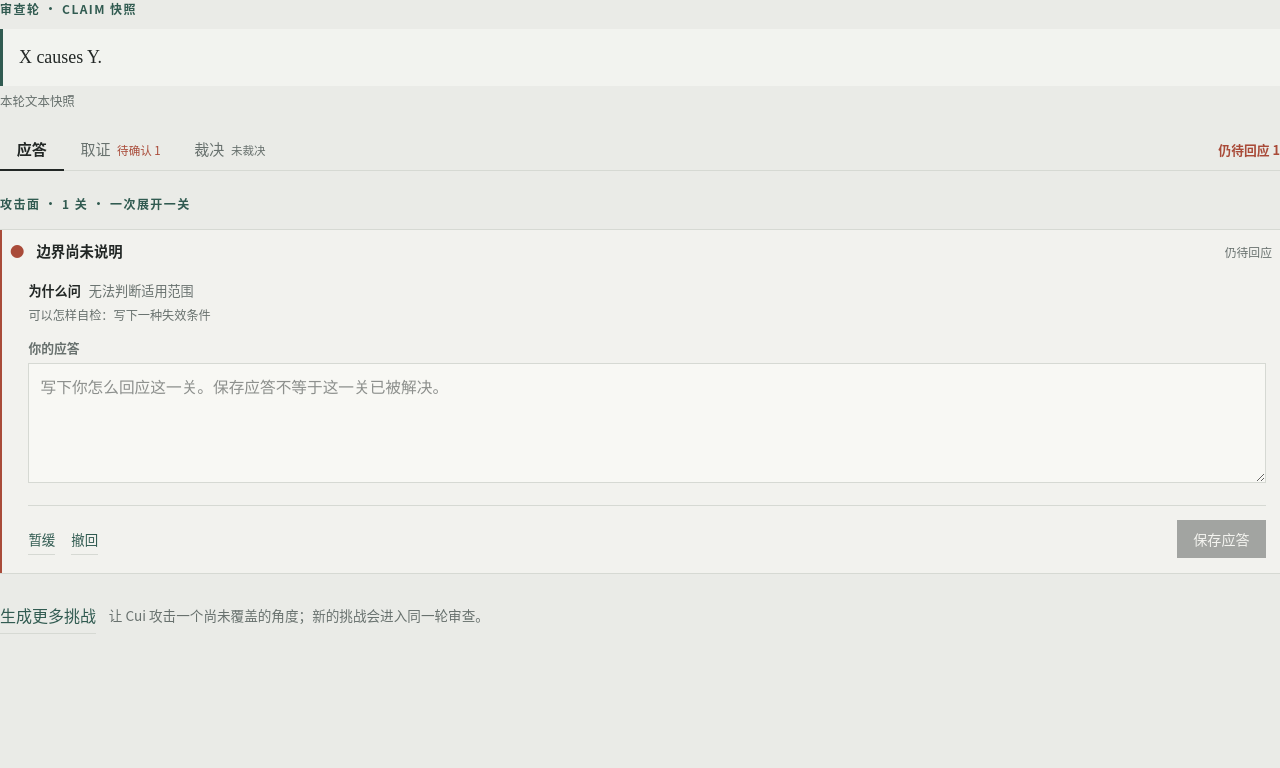
Test case: ReviewRoundDesk evidence surface › withdraws a candidate
This screenshot has width=1280, height=768.
What coordinates should you click on to do the following:
click the tab "取证 待确认 1"
I would click on:
 (121, 150)
Its box is [64,128,178,171].
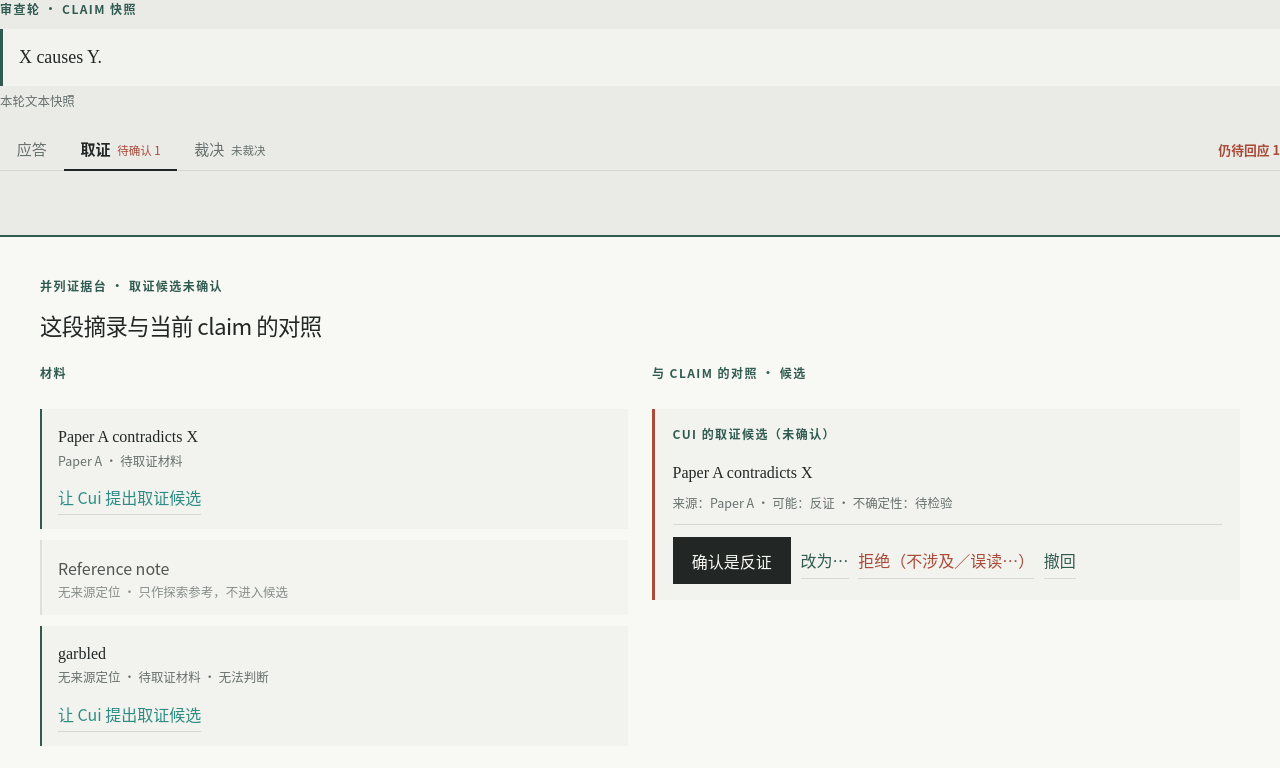
Now the 1st text "Paper A contradicts X" is shown, box [58,428,198,445]
What coordinates should you click on to do the following:
click the button "撤回"
I would click on:
 (1060, 561)
Its box is [1044,542,1076,579].
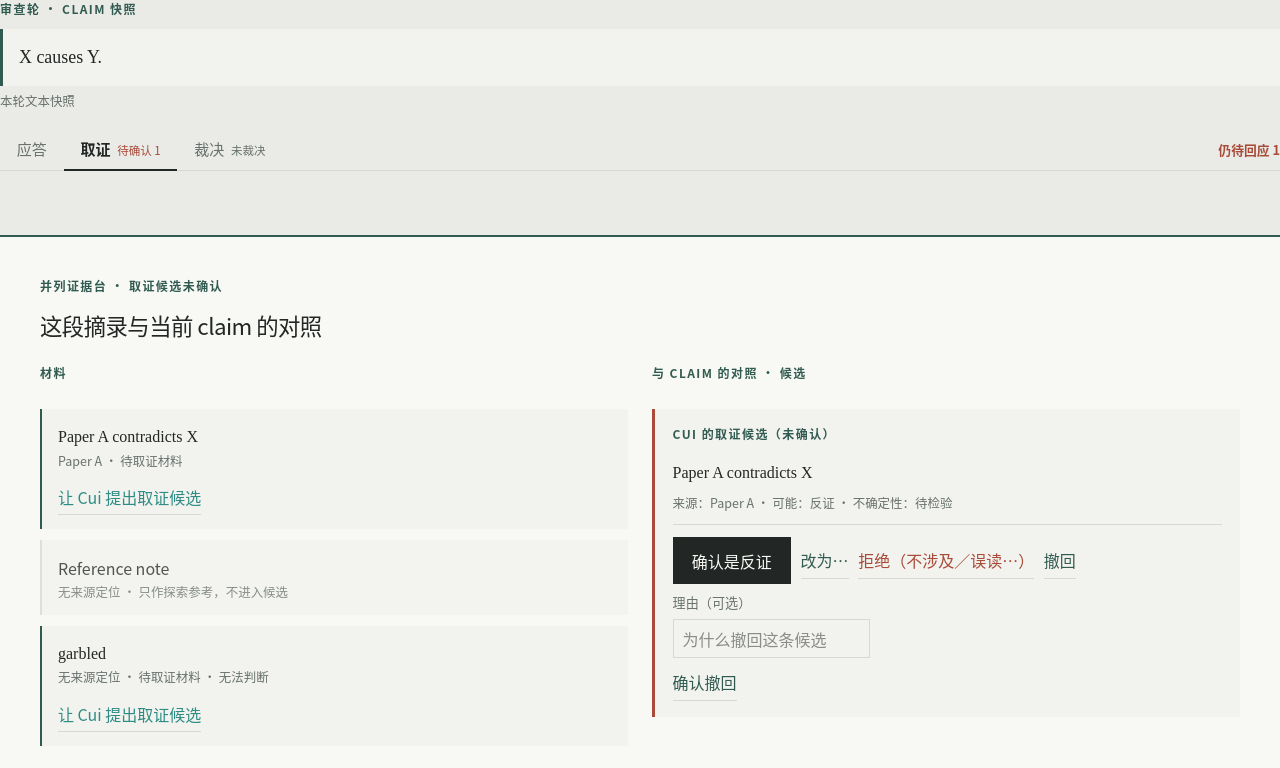
What coordinates should you click on to do the following:
click the button "确认撤回"
I would click on:
 (705, 683)
Its box is [673,665,737,701].
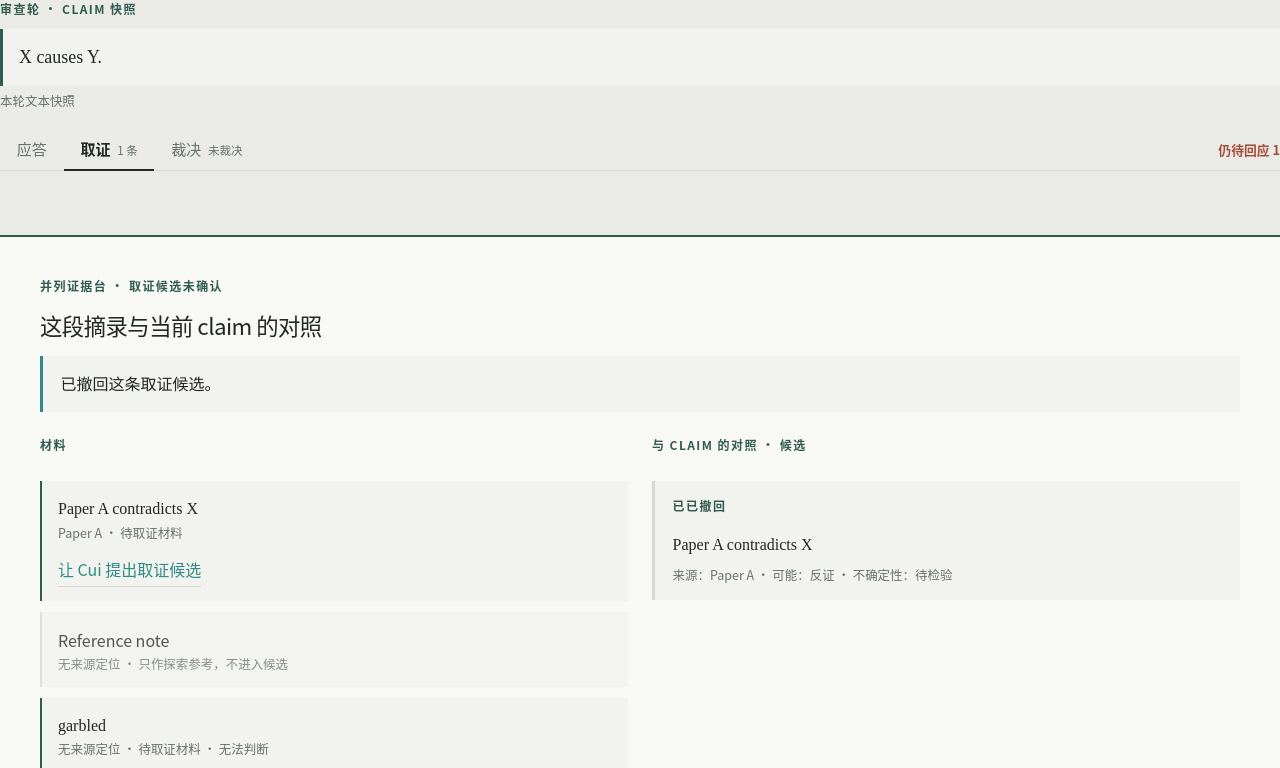
Now the text "已撤回这条取证候选。" is shown, box [40,356,1240,412]
